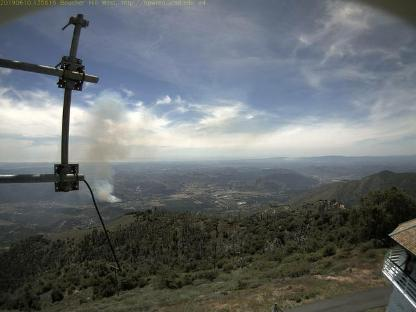smoke: (78, 88, 128, 204)
